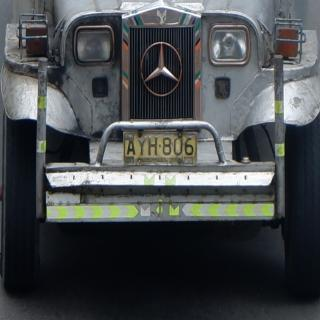license: (125, 133, 198, 166)
